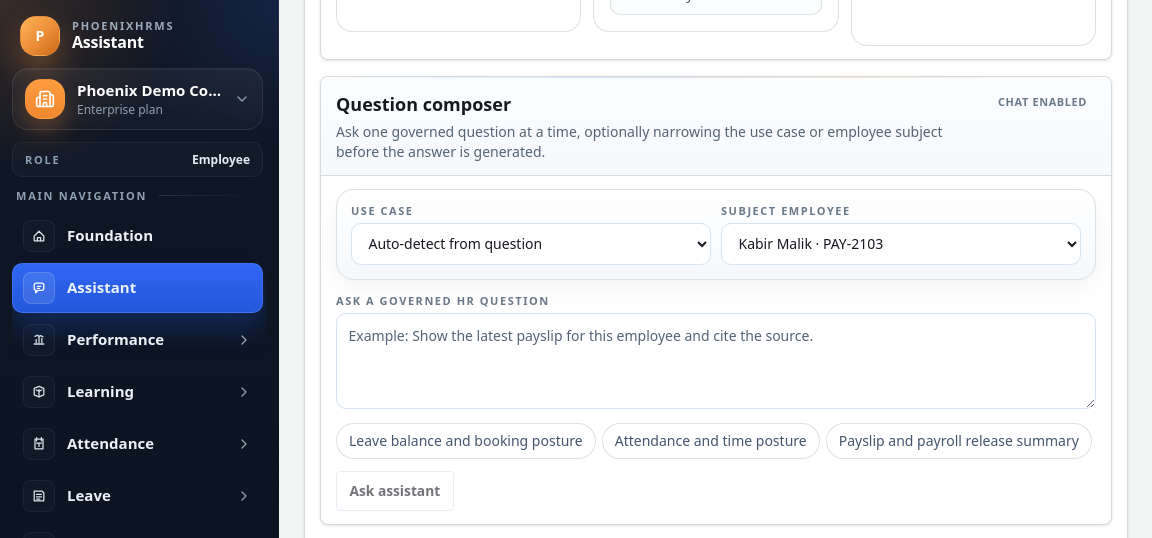
Test: AssistantPage › lets an employee ask a governed question and record feedback in demo mode
(page scrolled)
Replace the text in the text box labelled "Ask a governed HR question" with "Show my latest payslip." at {"x": 716, "y": 361}, box left=336, top=313, right=1096, bottom=409
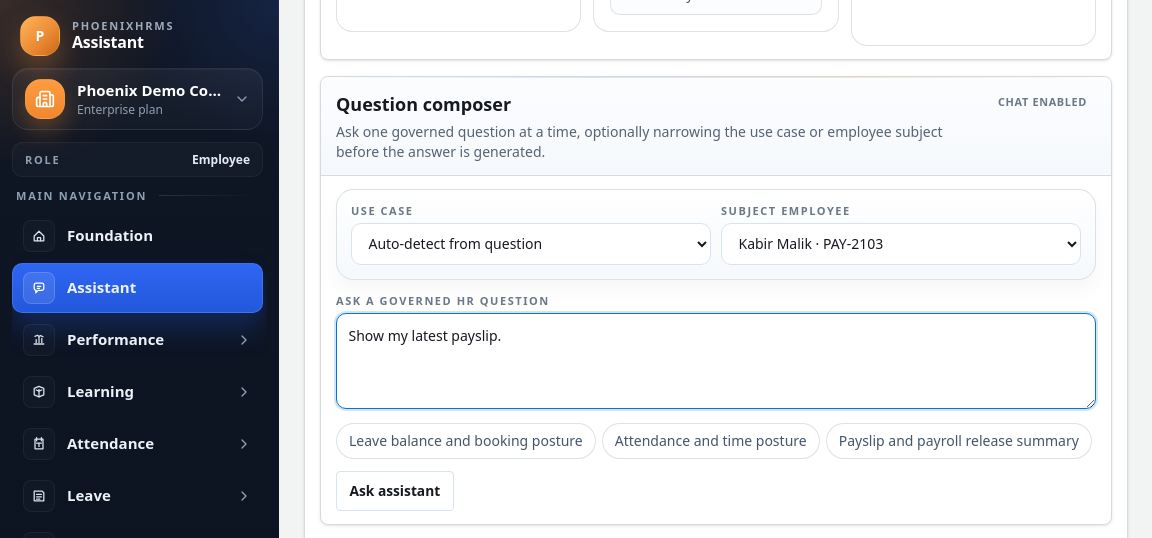
Click the button "Ask assistant".
click(395, 490)  # box left=336, top=470, right=454, bottom=510
(page scrolled)
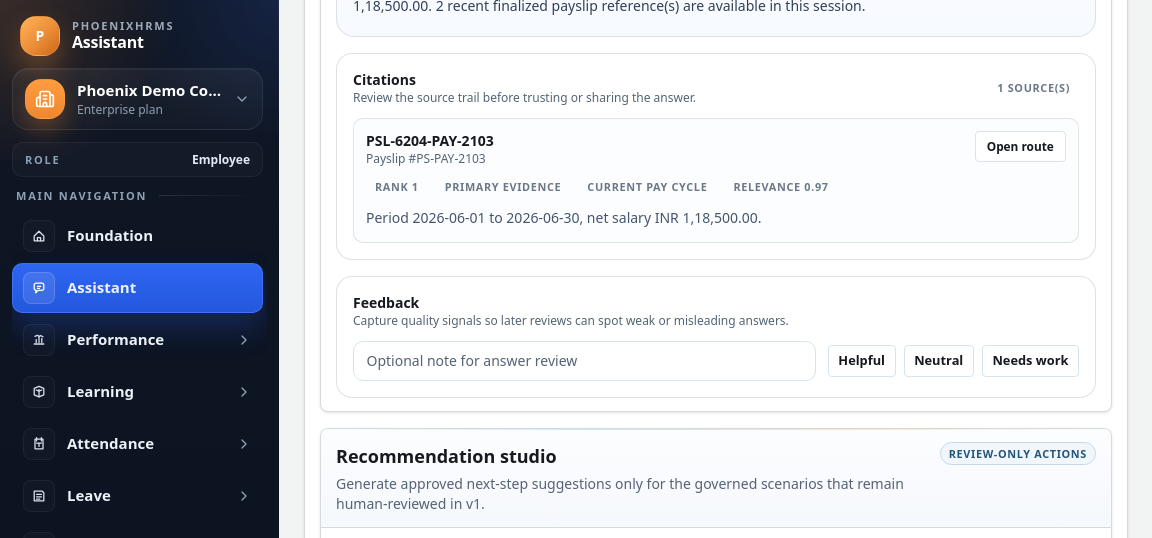
Expected: the text "Rank 1" is shown, left=375, top=179, right=419, bottom=194
Type "Clear answer with the right source trail." into the field named "feedback notes for interaction".
click(584, 361); type("Clear answer with the right source trail.")  # box left=353, top=341, right=816, bottom=381
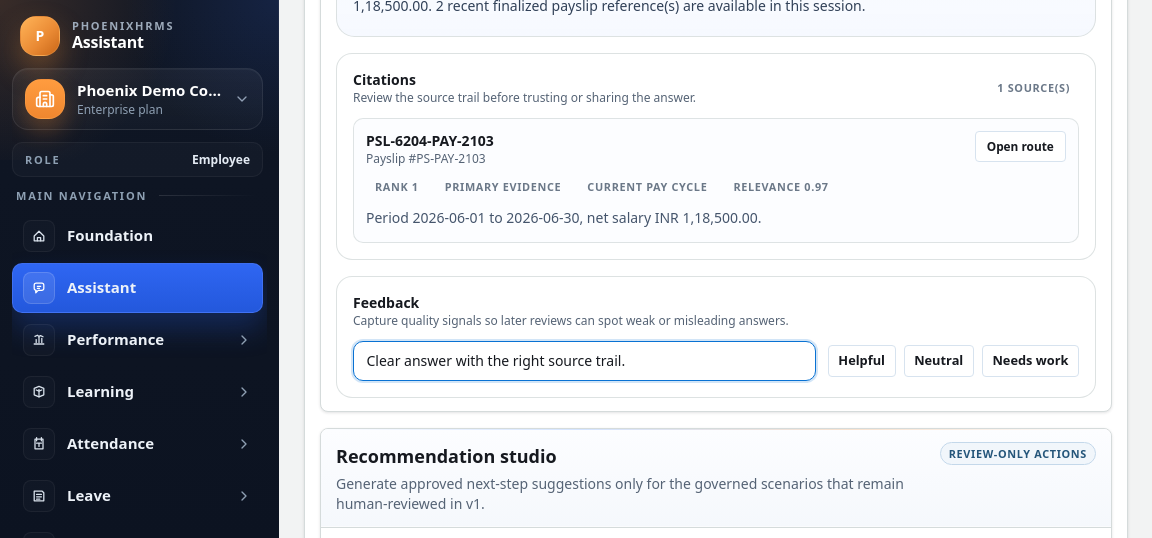
Click the button "Helpful".
click(862, 361)  # box left=828, top=345, right=896, bottom=377
(page scrolled)
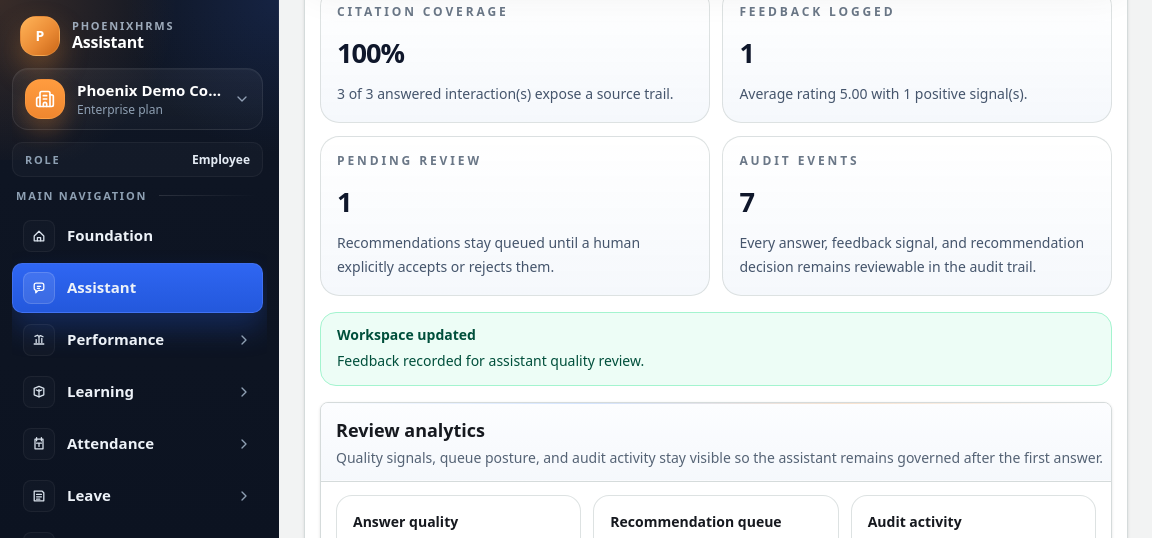
Result: the text "Feedback recorded for assistant quality review." is shown at left=337, top=351, right=644, bottom=370
